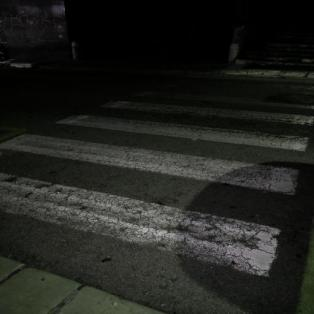Paso de Cebra: (0, 112, 312, 201)
